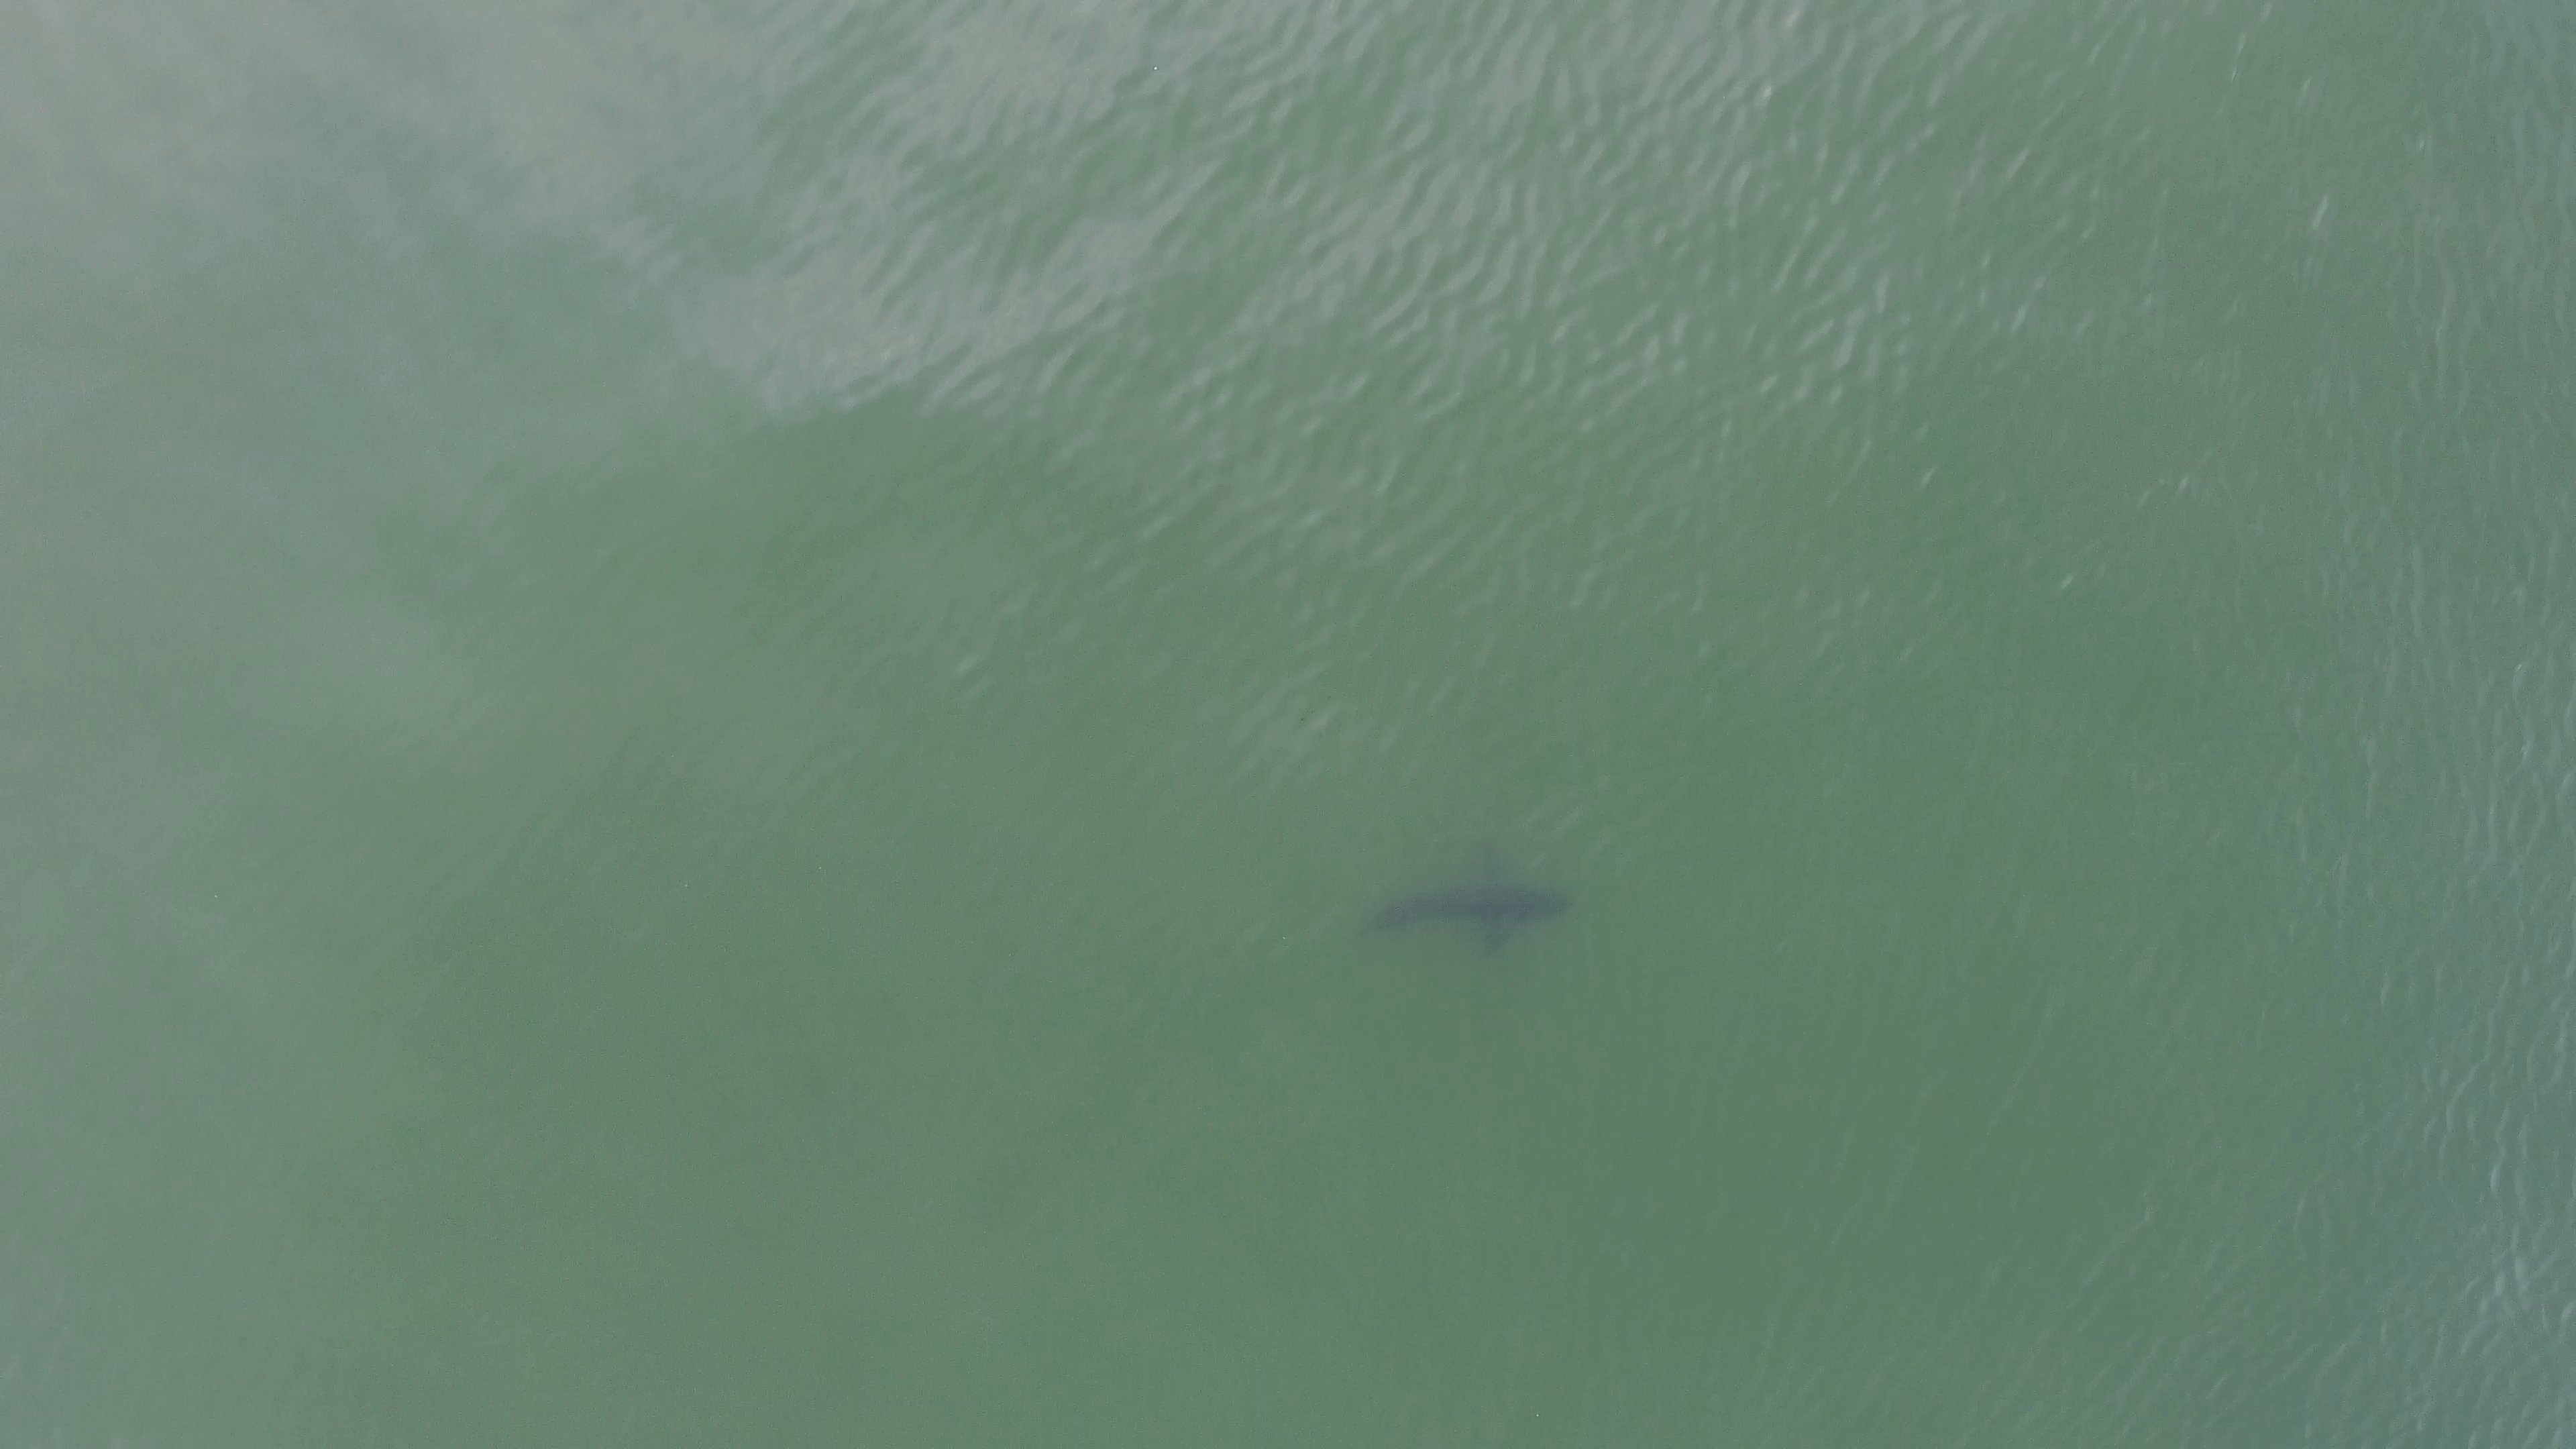shark: (1355, 835, 1610, 973)
